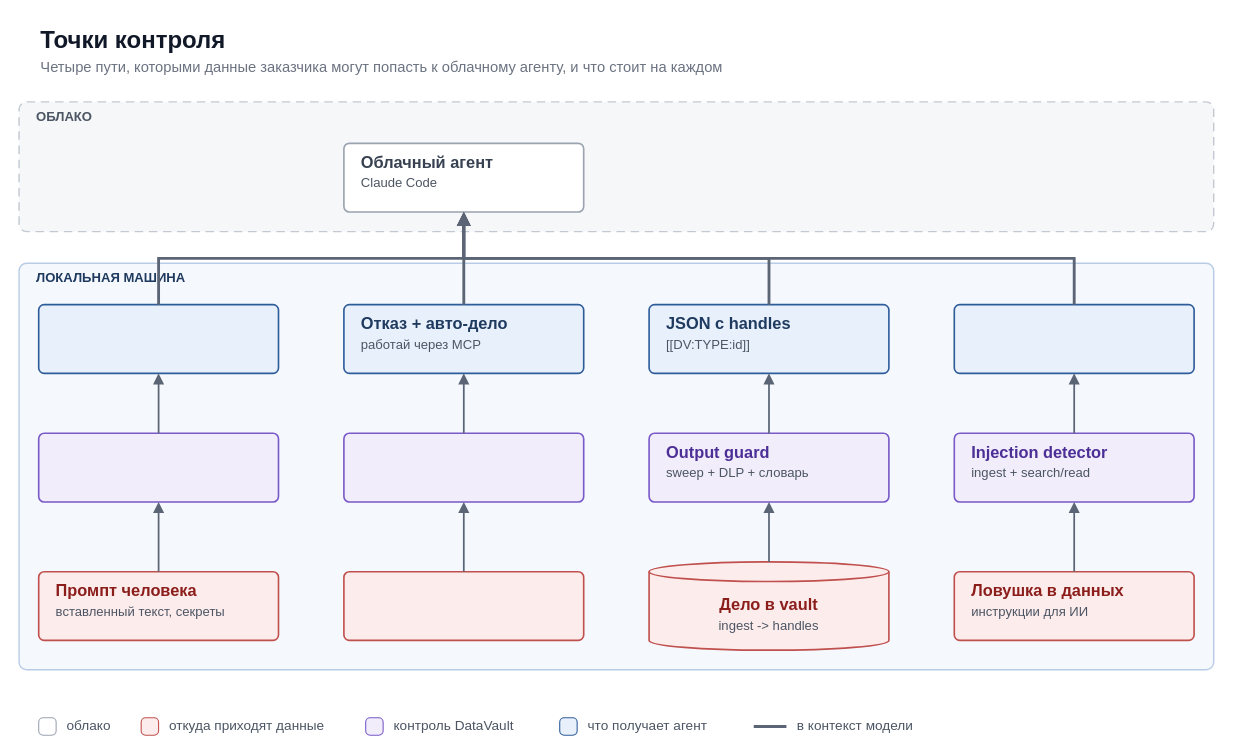
This 1234x755 diagram has some shape labels left out. Here are the shapes that lost their labels. From the top down, the centre of each, then its label:
the point at 158,338: Блок / маска [SECRET], handles
the point at 1073,338: [[DV:WARN:...]] читать как данные
the point at 158,467: Prompt guard hook UserPromptSubmit
the point at 463,467: File guard hook PreToolUse Read|Bash
the point at 463,605: Файл на диске xlsx, csv, docx, pdf, eml
